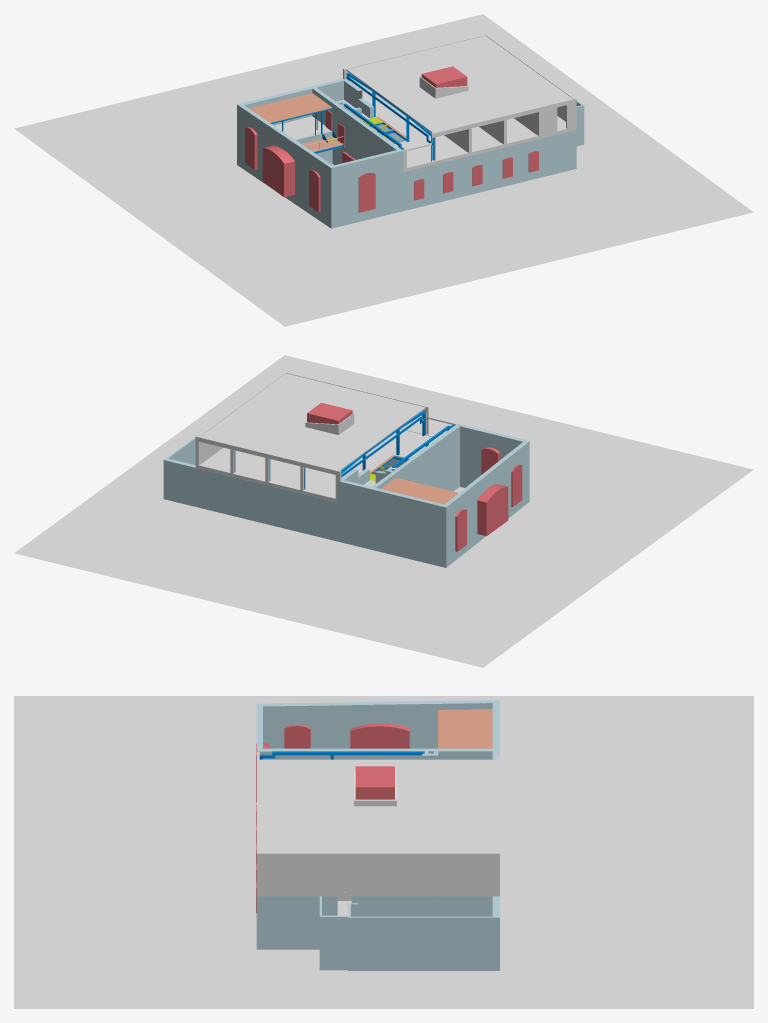
The model's file is abf_test_001.glb.
3 renders of one model, top to bottom at view 1: azimuth 30°, elevation 25°; view 2: azimuth 150°, elevation 25°; view 3: azimuth 270°, elevation 25°, orthographic. The views are drawn at different scales.
Parts seen in each view (by area): view 1: Plane, OG 2, Roof Floor, OG 3 Legacy, OG 3 Neo, floor og3 1st, Window.008, Plane Meetroom Auditorium.001, OG 3 inner, Plane Meetroom Auditorium, Cube.020, Window.005; view 2: Plane, OG 2, Roof Floor, OG 3 Legacy, floor og3 1st, OG 3 Neo, Window.008, Plane Meetroom Auditorium.001, Cube.020; view 3: Plane, Roof Floor, OG 2, OG 3 Neo, OG 3 Legacy, Plane Meetroom Auditorium.001, Window.008, Cube.020, Cube.018, Window.007.
Boxes of the visible parts, bbox=[...] form: Plane: bbox=[14, 14, 753, 326]; OG 2: bbox=[237, 100, 584, 228]; Roof Floor: bbox=[346, 35, 572, 132]; OG 3 Legacy: bbox=[237, 78, 403, 189]; OG 3 Neo: bbox=[343, 33, 576, 171]; floor og3 1st: bbox=[362, 92, 565, 165]; Window.008: bbox=[262, 145, 294, 197]; Plane Meetroom Auditorium.001: bbox=[249, 93, 332, 122]; OG 3 inner: bbox=[444, 112, 537, 151]; Plane Meetroom Auditorium: bbox=[274, 116, 331, 139]; Cube.020: bbox=[421, 66, 467, 87]; Window.005: bbox=[358, 172, 375, 212]; Plane: bbox=[14, 355, 753, 667]; OG 2: bbox=[163, 437, 529, 567]; Roof Floor: bbox=[196, 373, 425, 472]; OG 3 Legacy: bbox=[337, 423, 529, 528]; floor og3 1st: bbox=[202, 430, 435, 496]; OG 3 Neo: bbox=[195, 371, 457, 502]; Window.008: bbox=[477, 484, 508, 536]; Plane Meetroom Auditorium.001: bbox=[381, 477, 458, 504]; Cube.020: bbox=[307, 402, 352, 424]; Plane: bbox=[14, 696, 753, 1008]; Roof Floor: bbox=[259, 759, 496, 851]; OG 2: bbox=[256, 733, 499, 970]; OG 3 Neo: bbox=[256, 752, 499, 896]; OG 3 Legacy: bbox=[256, 700, 499, 759]; Plane Meetroom Auditorium.001: bbox=[437, 709, 492, 748]; Window.008: bbox=[350, 723, 409, 748]; Cube.020: bbox=[355, 766, 394, 799]; Cube.018: bbox=[263, 751, 424, 758]; Window.007: bbox=[284, 724, 310, 748].
Bounding box in the file's own units: 56.64 × 9.98 × 56.64.
